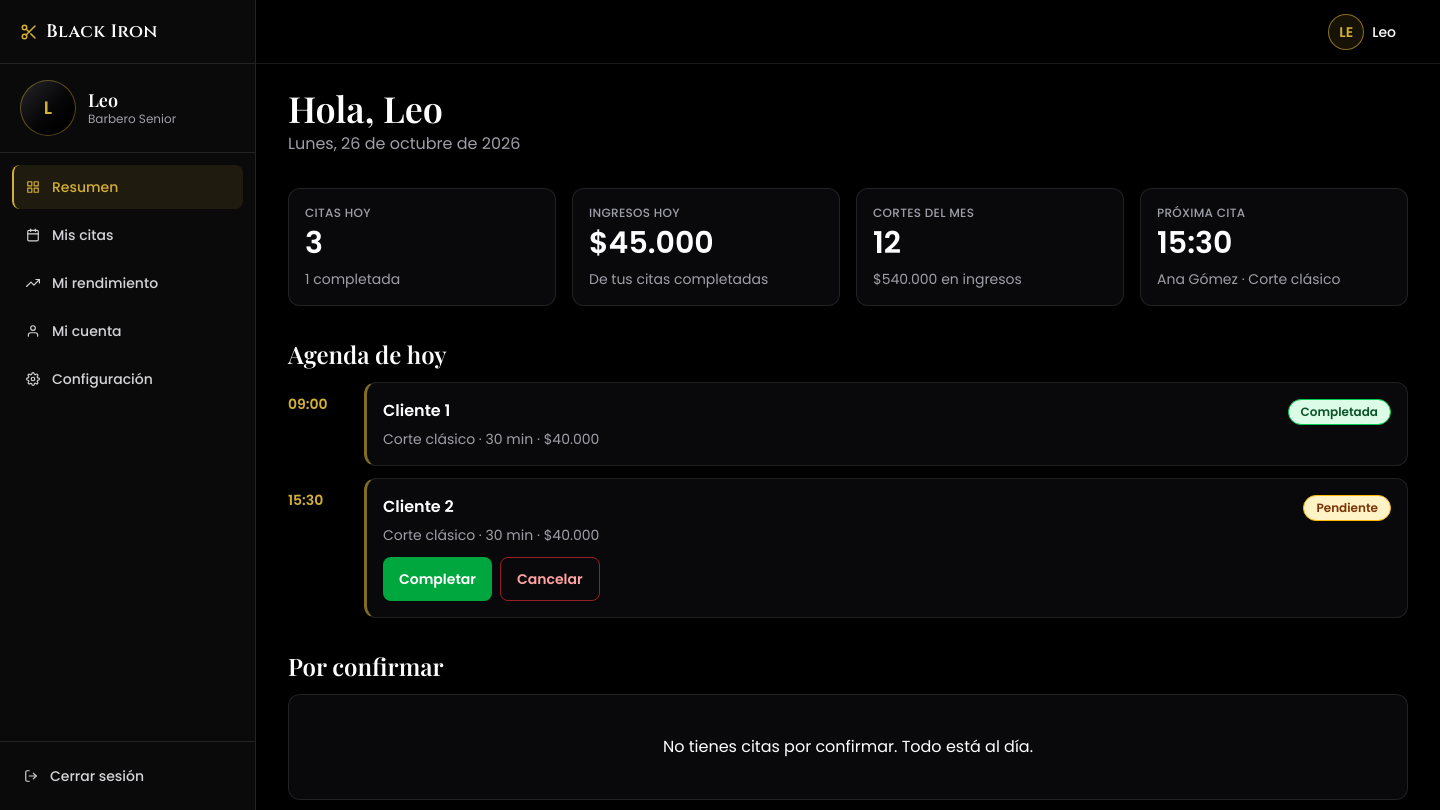
Test: Completar y cancelar desde el Resumen › si cancelar falla, el error aparece dentro del diálogo y se puede reintentar
This screenshot has width=1440, height=810.
Expected: the text "Cliente 2" is shown, [383,495,454,519]
Click the button with aria-label "Cancelar la cita de Cliente 2" at (550, 579), box [500,557,600,601]
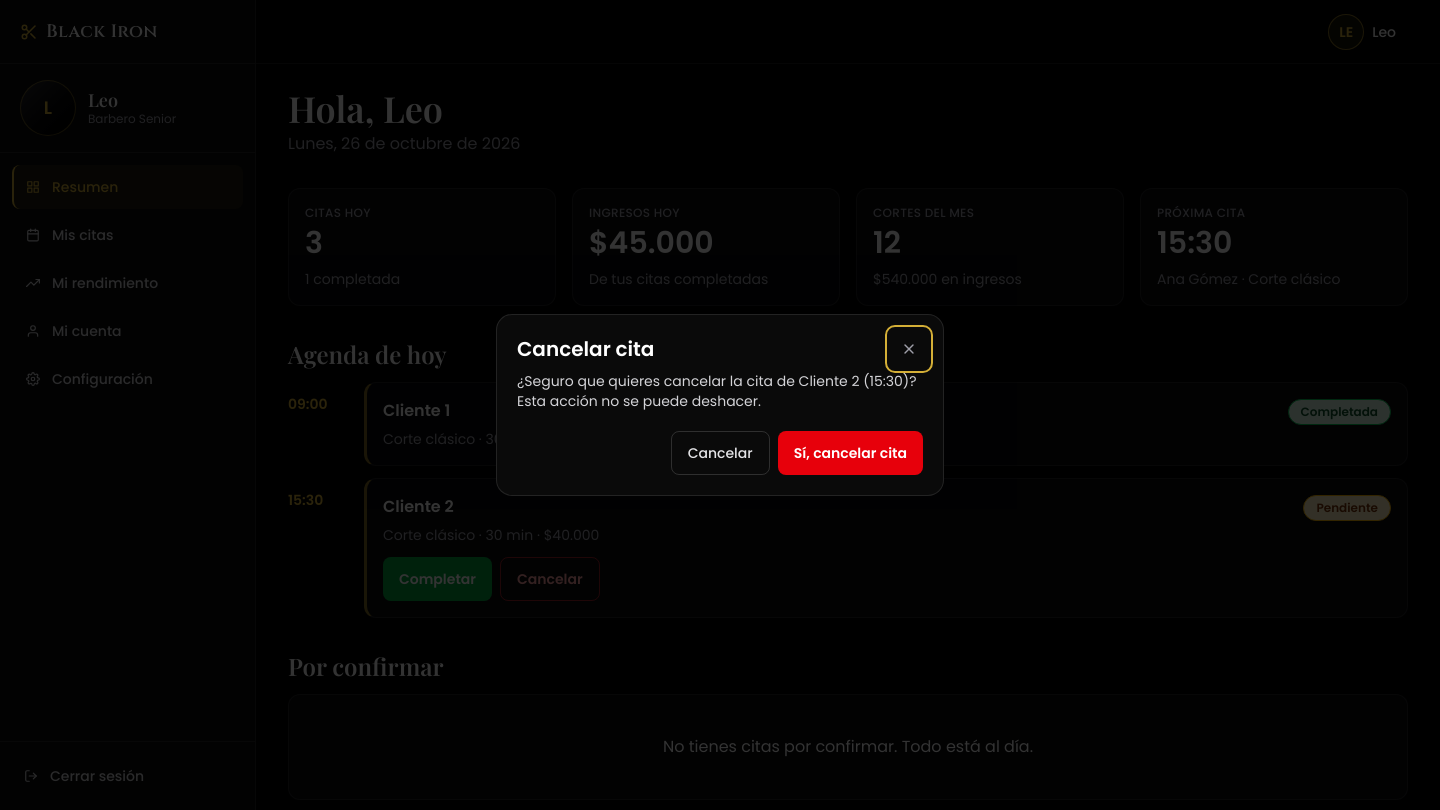
Click the button "Sí, cancelar cita" at (850, 453), box [778,431,923,475]
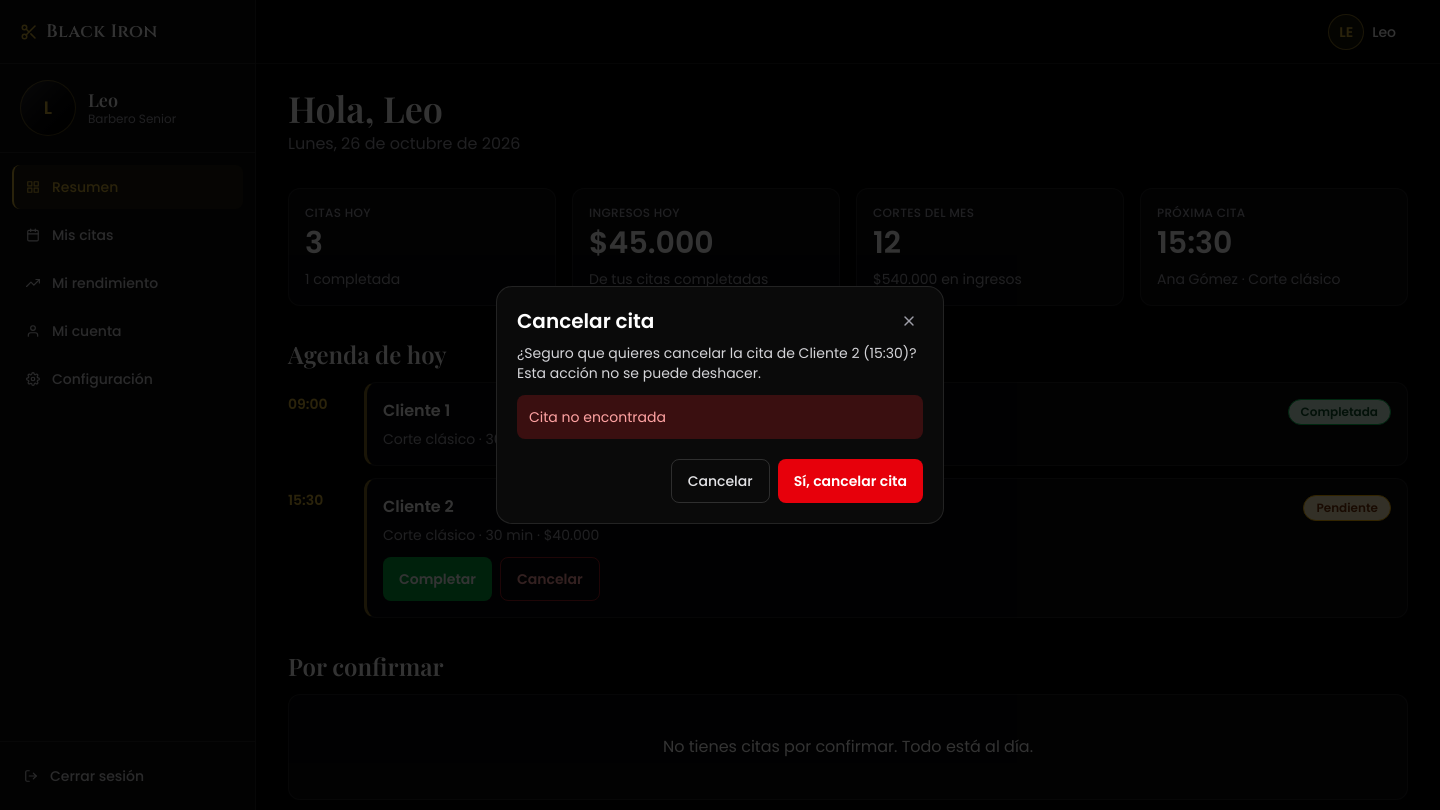
Expected: the message reads "Cita no encontrada", [529,407,666,427]
Click the button "Sí, cancelar cita" at (850, 481), box [778,459,923,503]
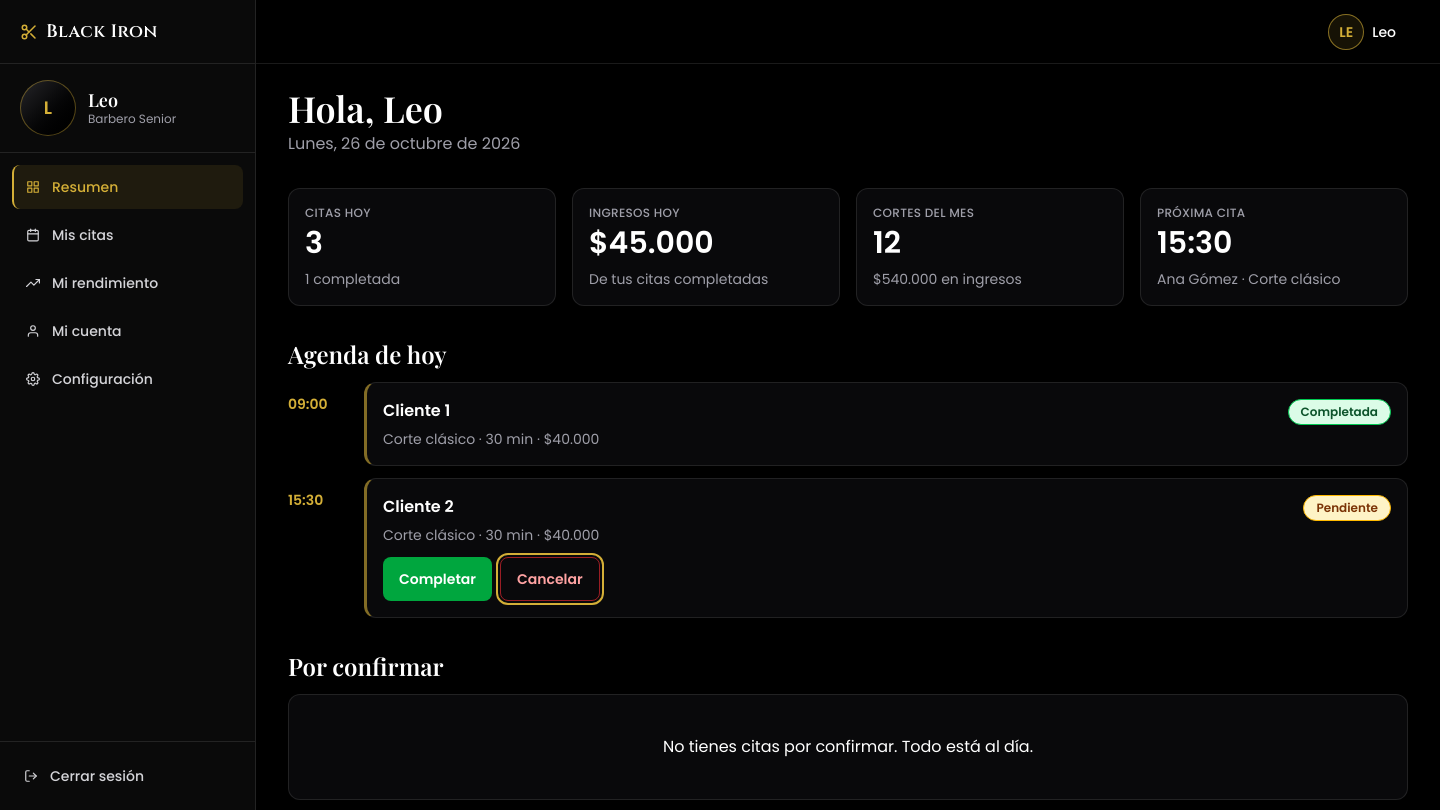
Expected: the dialog is gone
